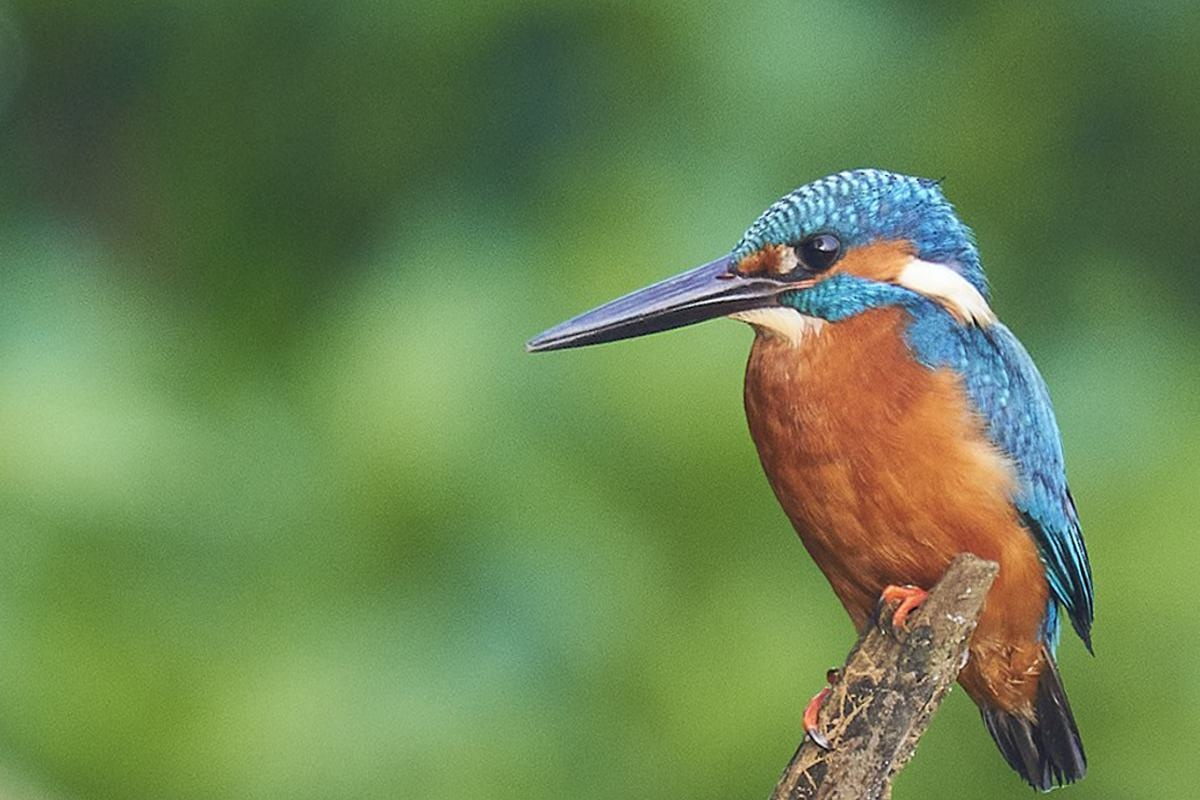kingfisher: (509, 143, 1125, 788)
